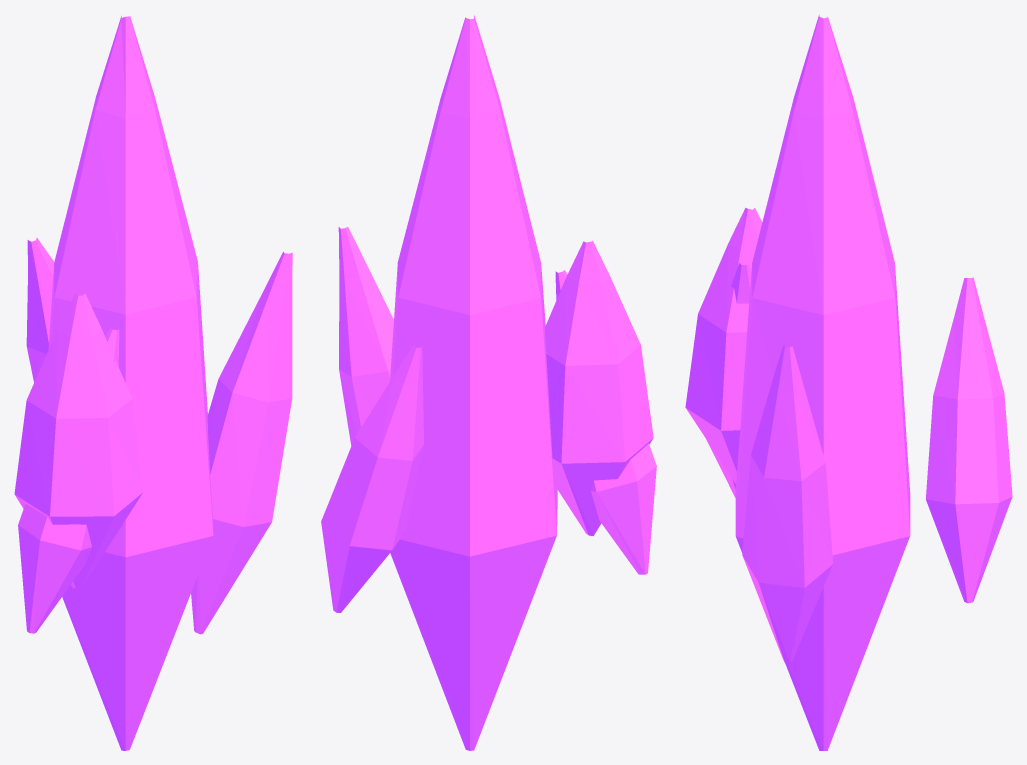
The model's file is crystal.glb.
3 views of the same model, side by side, from view 1: azimuth 30°, elevation 25°; view 2: azimuth 150°, elevation 25°; view 3: azimuth 270°, elevation 25° (orthographic).
Visible parts, largest first — view 1: crystal; view 2: crystal; view 3: crystal.
Boxes of the visible parts, x1,y1,x2,y2 form: crystal: (14, 16, 292, 750); crystal: (321, 15, 656, 750); crystal: (685, 14, 1012, 750).
Size of the model in its own units: 1.39 by 3.42 by 1.38.
